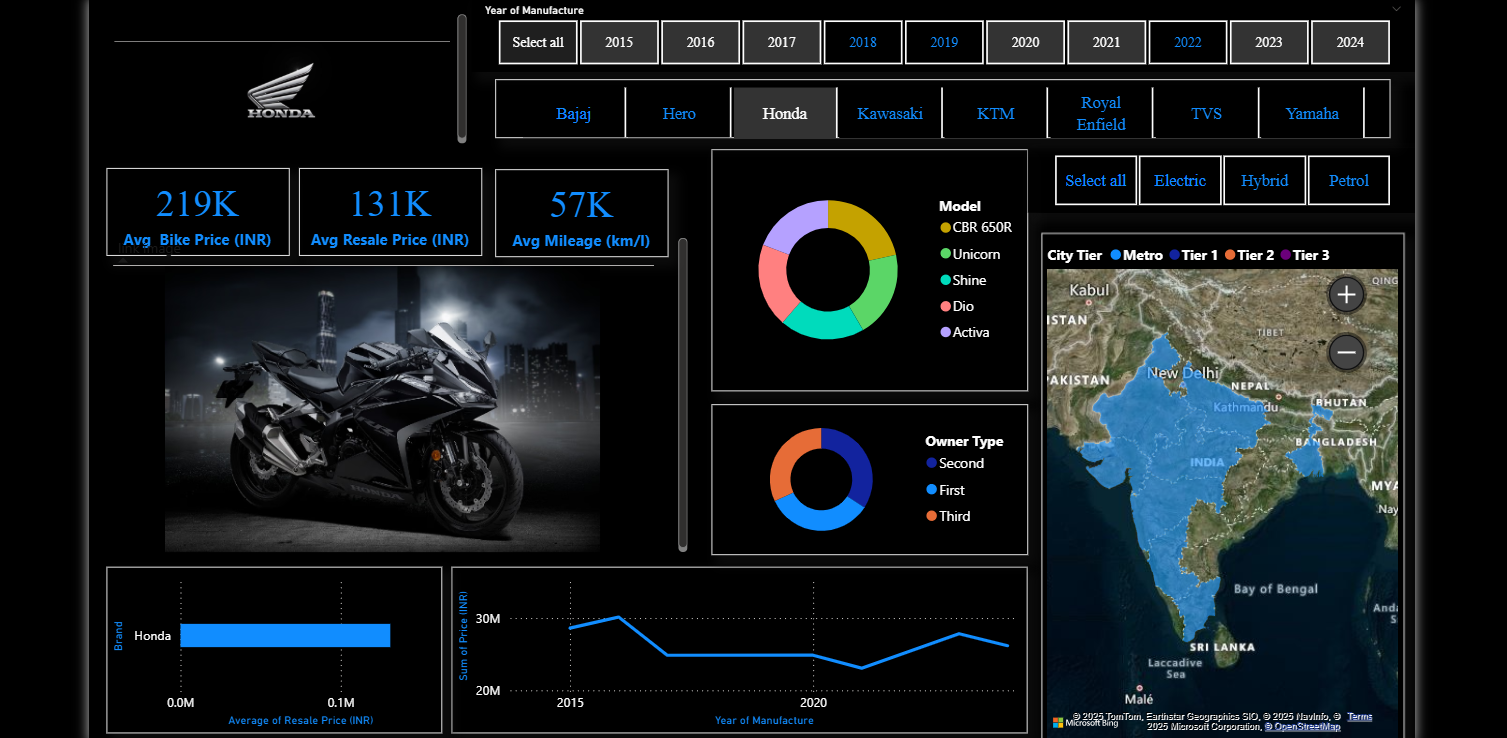

This screenshot's page, from the dashboard's own definition file:
{"tool":"powerbi","page":{"name":"Page 1","canvas":[1280,720],"ordinal":0},"visuals":[{"type":"card","fields":{"Values":["Avg(Sheet1.Price (INR))"]},"box":[16.7,164,176.5,84.8],"z":0},{"type":"card","fields":{"Values":["Avg(Sheet1.Resale Price (INR))"]},"box":[203,164,176.5,84.8],"z":1000},{"type":"card","fields":{"Values":["Sum(Sheet1.Mileage (km/l))"]},"box":[392,165.4,166.8,84.8],"z":2000},{"type":"lineChart","fields":{"Category":["Sheet1.Year of Manufacture"],"Y":["Sum(Sheet1.Price (INR))"]},"box":[349.9,548.9,556.2,160.5],"z":3000},{"type":"barChart","fields":{"Category":["Sheet1.Brand"],"Y":["Avg(Sheet1.Resale Price (INR))"]},"box":[16.5,548.9,323.8,160.5],"z":4000},{"type":"donutChart","fields":{"Category":["Sheet1.Model"],"Y":["CountNonNull(Sheet1.Model)"]},"box":[600.5,146,305.8,233.5],"z":5000},{"type":"donutChart","fields":{"Category":["Sheet1.Owner Type"],"Y":["CountNonNull(Sheet1.Model)"]},"box":[600.5,392,305.8,146],"z":6000},{"type":"slicer","fields":{"Values":["Sheet1.Fuel Type"]},"box":[906.3,144.6,373.9,62.6],"z":7000},{"type":"filledMap","fields":{"Category":["Sheet1.State"],"Series":["Sheet1.City Tier"]},"box":[918.9,226.6,350.3,493.5],"z":8000},{"type":"slicer","fields":{"Values":["Sheet1.Year of Manufacture"]},"box":[369.8,0,910.5,70.9],"z":9000},{"type":"tableEx","fields":{"Values":["Table.link image"]},"box":[16.7,226.6,565.8,312.8],"z":10000},{"type":"slicer","fields":{"Values":["Table.Brand"]},"box":[392.1,78.4,863.8,56.7],"z":11000},{"type":"tableEx","fields":{"Values":["loko (2).logo2"]},"box":[18.1,11.1,351.7,134.8],"z":12000}]}

Visuals, with their boxes on the page's 1280x720 design canvas (x1, y1, x2, y2). These are canvas units, not pixel positions in the 1507x738 screenshot, which may show the page scaled, cropped or inside an application window:
card - Avg(Sheet1.Price (INR)): l=17, t=164, r=193, b=249
card - Avg(Sheet1.Resale Price (INR)): l=203, t=164, r=380, b=249
card - Sum(Sheet1.Mileage (km/l)): l=392, t=165, r=559, b=250
lineChart - Sheet1.Year of Manufacture x Sum(Sheet1.Price (INR)): l=350, t=549, r=906, b=709
barChart - Sheet1.Brand x Avg(Sheet1.Resale Price (INR)): l=16, t=549, r=340, b=709
donutChart - Sheet1.Model x CountNonNull(Sheet1.Model): l=600, t=146, r=906, b=380
donutChart - Sheet1.Owner Type x CountNonNull(Sheet1.Model): l=600, t=392, r=906, b=538
slicer - Sheet1.Fuel Type: l=906, t=145, r=1280, b=207
filledMap - Sheet1.State x Sheet1.City Tier: l=919, t=227, r=1269, b=720
slicer - Sheet1.Year of Manufacture: l=370, t=0, r=1280, b=71
tableEx - Table.link image: l=17, t=227, r=582, b=539
slicer - Table.Brand: l=392, t=78, r=1256, b=135
tableEx - loko (2).logo2: l=18, t=11, r=370, b=146
